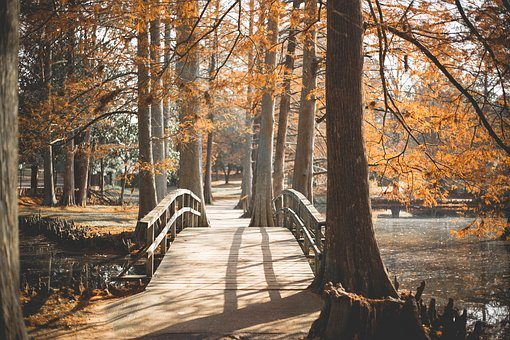forest: (4, 3, 508, 334)
tree: (303, 1, 504, 297), (1, 6, 161, 266), (241, 4, 325, 224), (118, 1, 203, 209)
